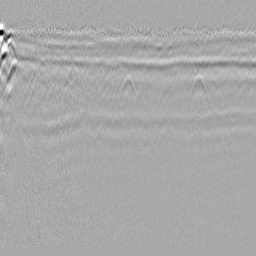cavity: (118, 73, 137, 103)
